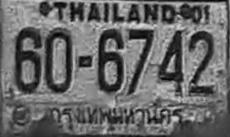0: (44, 28, 72, 92)
2: (188, 30, 214, 94)
4: (156, 30, 184, 94)
6: (14, 27, 42, 93), (97, 29, 124, 93)
7: (128, 28, 154, 94)
BKK: (49, 101, 187, 131)
